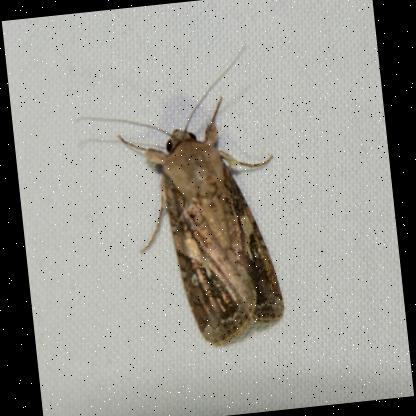Fall Armyworm Moth: (64, 40, 296, 362)
